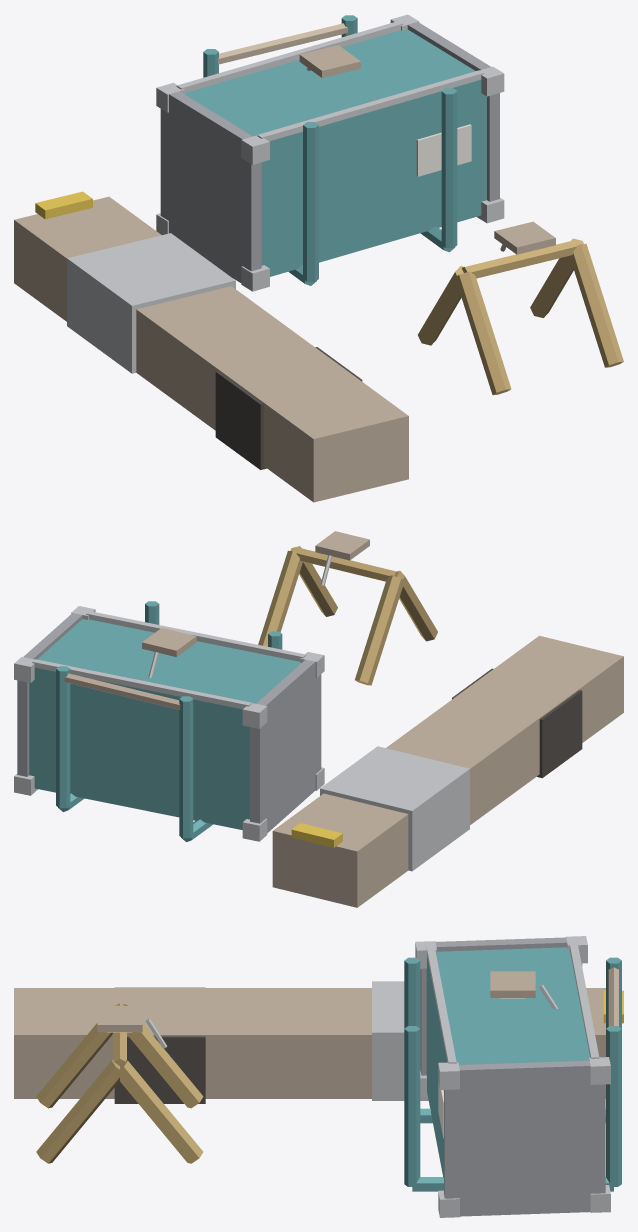
File: render.glb
3 views of the same model, one above another, from view 1: azimuth 30°, elevation 25°; view 2: azimuth 150°, elevation 25°; view 3: azimuth 270°, elevation 25° (orthographic). The views are drawn at different scales.
Parts seen in each view (by area): view 1: spine, held_pod_body, held_pod_enda, spine_patch_a, spine_patch_b, held_pod_casts, berthA_f, berthA_a, berthB0_r, berthB1_r, held_pod_endf, held_pod_rails (+9 smaller); view 2: held_pod_body, spine, spine_patch_a, held_pod_enda, spine_patch_b, held_pod_casts, berthA_a, berthA_f, berthB0_l, held_pod_endf, held_pod_railp, held_pod_rails (+8 smaller); view 3: spine, held_pod_endf, held_pod_body, berthA_f, spine_patch_a, spine_patch_b, held_pod_casts, berthB1_l, berthB1_r, held_pod_enda, berthB0_r, berthB0_l (+7 smaller).
Part boxes in pixels (<box>): spine: <box>14,196,408,502</box>; held_pod_body: <box>185,29,486,276</box>; held_pod_enda: <box>160,91,261,282</box>; spine_patch_a: <box>67,233,235,373</box>; spine_patch_b: <box>215,347,362,469</box>; held_pod_casts: <box>156,14,504,291</box>; berthA_f: <box>341,15,457,252</box>; berthA_a: <box>203,49,318,285</box>; berthB0_r: <box>455,271,511,395</box>; berthB1_r: <box>569,243,623,367</box>; held_pod_endf: <box>407,22,499,201</box>; held_pod_rails: <box>257,70,483,141</box>; held_pod_body: <box>29,619,301,829</box>; spine: <box>272,635,623,907</box>; spine_patch_a: <box>320,746,469,871</box>; held_pod_enda: <box>250,659,321,832</box>; spine_patch_b: <box>452,668,582,778</box>; held_pod_casts: <box>14,606,324,841</box>; berthA_a: <box>179,631,282,841</box>; berthA_f: <box>56,601,159,811</box>; berthB0_l: <box>355,575,404,685</box>; held_pod_endf: <box>17,613,82,776</box>; held_pod_railp: <box>32,659,251,709</box>; held_pod_rails: <box>86,611,306,661</box>; spine: <box>14,988,605,1098</box>; held_pod_endf: <box>444,1060,605,1216</box>; held_pod_body: <box>426,947,589,1178</box>; berthA_f: <box>404,1026,621,1191</box>; spine_patch_a: <box>372,981,428,1100</box>; spine_patch_b: <box>114,987,205,1103</box>; held_pod_casts: <box>415,936,610,1217</box>; berthB1_l: <box>116,1060,203,1163</box>; berthB1_r: <box>36,1060,123,1163</box>; held_pod_enda: <box>420,937,582,1075</box>; berthB0_r: <box>36,1004,116,1108</box>; berthB0_l: <box>123,1004,203,1108</box>.
Bounding box in the file's own units: 9.39 × 4.47 × 12.1.
